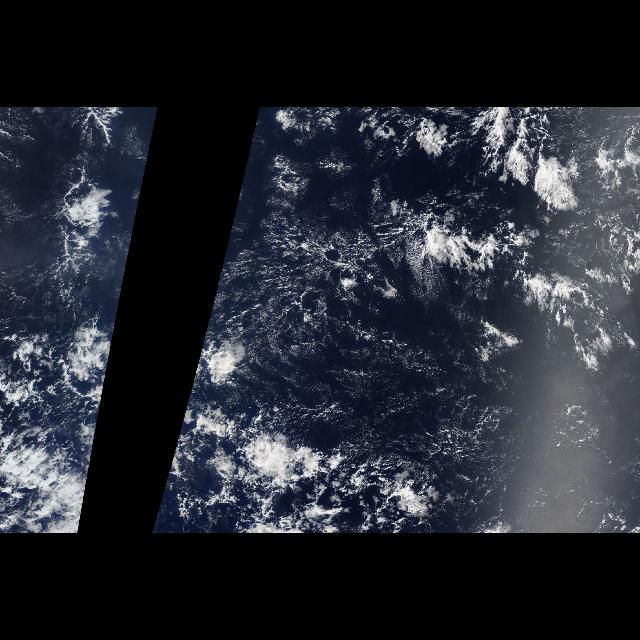Flower: (402, 111, 640, 315)
Gravel: (233, 203, 439, 373), (262, 468, 443, 532)
Sugar: (224, 248, 626, 508)
